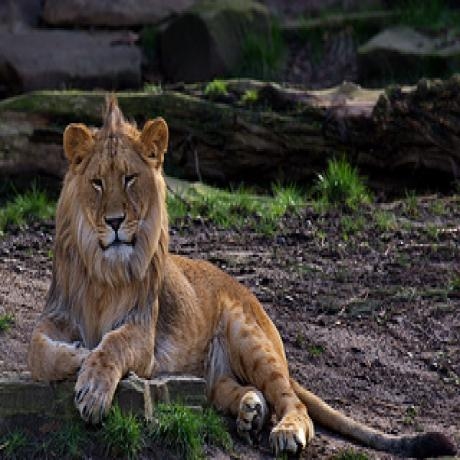Lion: (27, 99, 319, 456)
